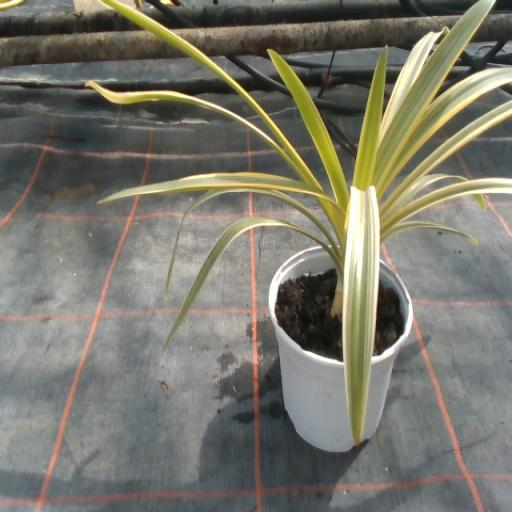Agapanthus-praecox: (99, 0, 318, 183), (371, 0, 494, 197), (164, 217, 333, 349), (86, 81, 292, 167), (382, 68, 511, 191), (390, 101, 511, 206), (270, 50, 348, 208), (342, 187, 379, 444), (166, 189, 249, 299), (101, 173, 334, 204), (380, 29, 444, 139), (384, 179, 511, 234), (354, 48, 386, 190), (258, 191, 328, 237), (391, 174, 468, 212), (384, 221, 477, 243), (473, 193, 484, 208)
